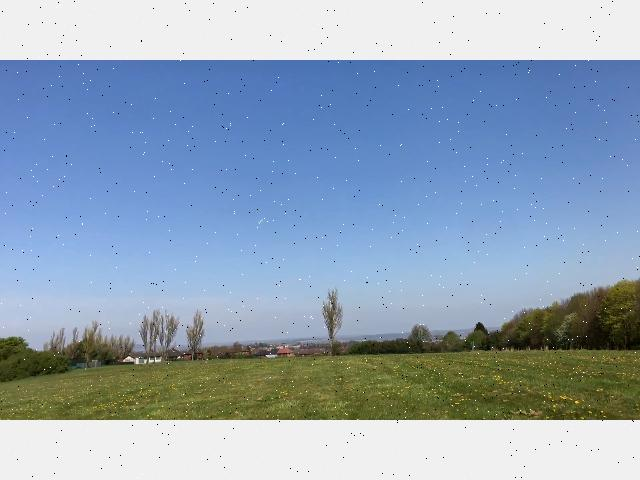Anti-Drone: (253, 212, 269, 229)
